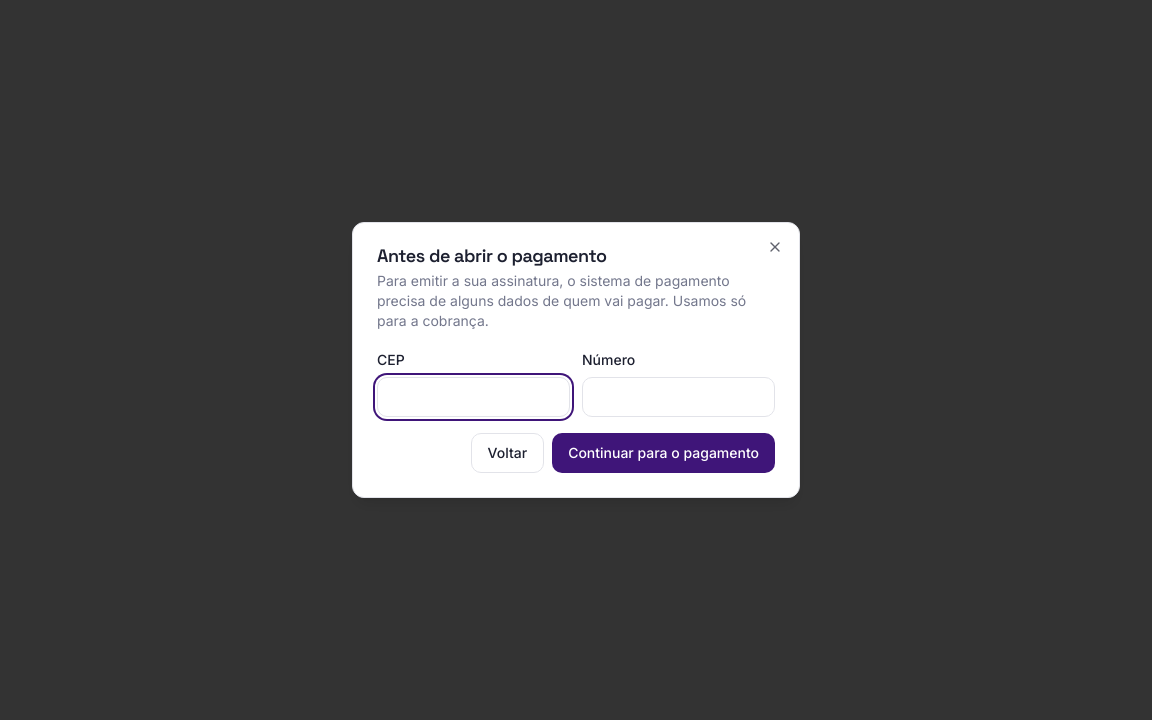
billing dialog › lookup erro:true reveals manual address, still blocks missing number
Later steps or results of the test are not shown.
Type "00000000" into the field labelled "CEP". click: {"x": 474, "y": 397}
box: [377,377,570,417]
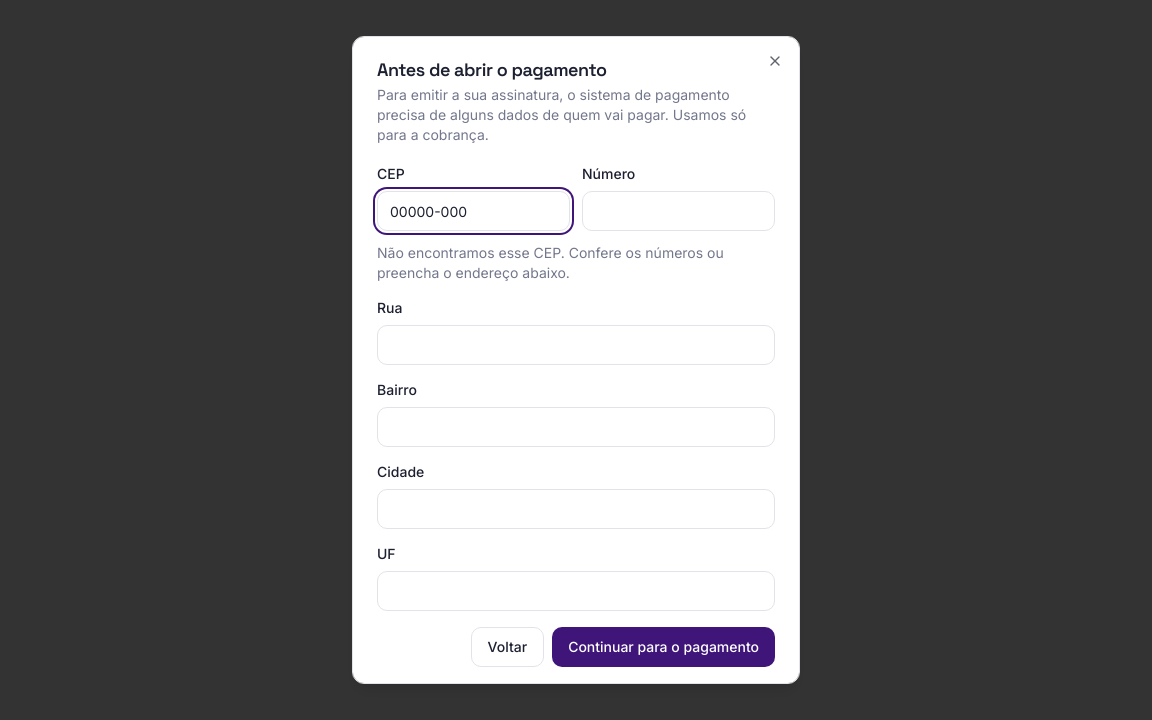
Check: the field labelled "Rua" is shown
Check: the text "Não encontramos esse CEP. Confere os números ou preencha o endereço abaixo." is shown, box [377,243,775,283]
Type " Rua A " into the field labelled "Rua". click: {"x": 576, "y": 345}
box: [377,325,775,365]
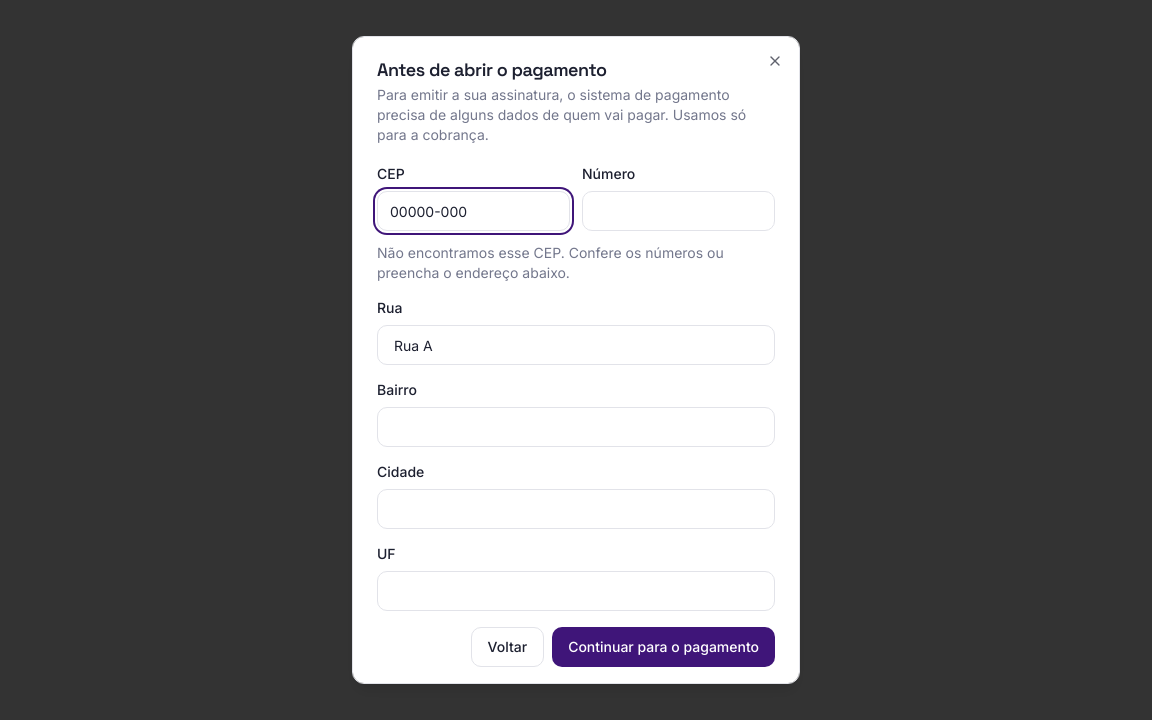
Type " Bairro A " into the field labelled "Bairro". click: {"x": 576, "y": 427}
box: [377,407,775,447]
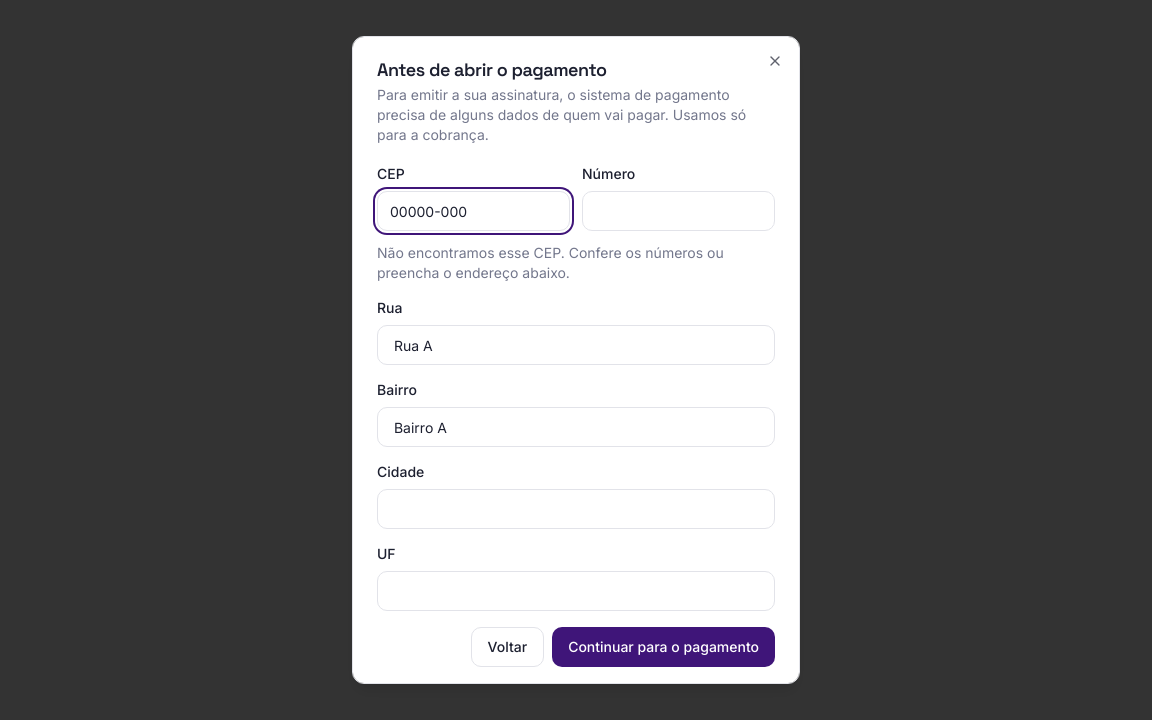
Type " São Paulo " into the field labelled "Cidade". click: {"x": 576, "y": 509}
box: [377,489,775,529]
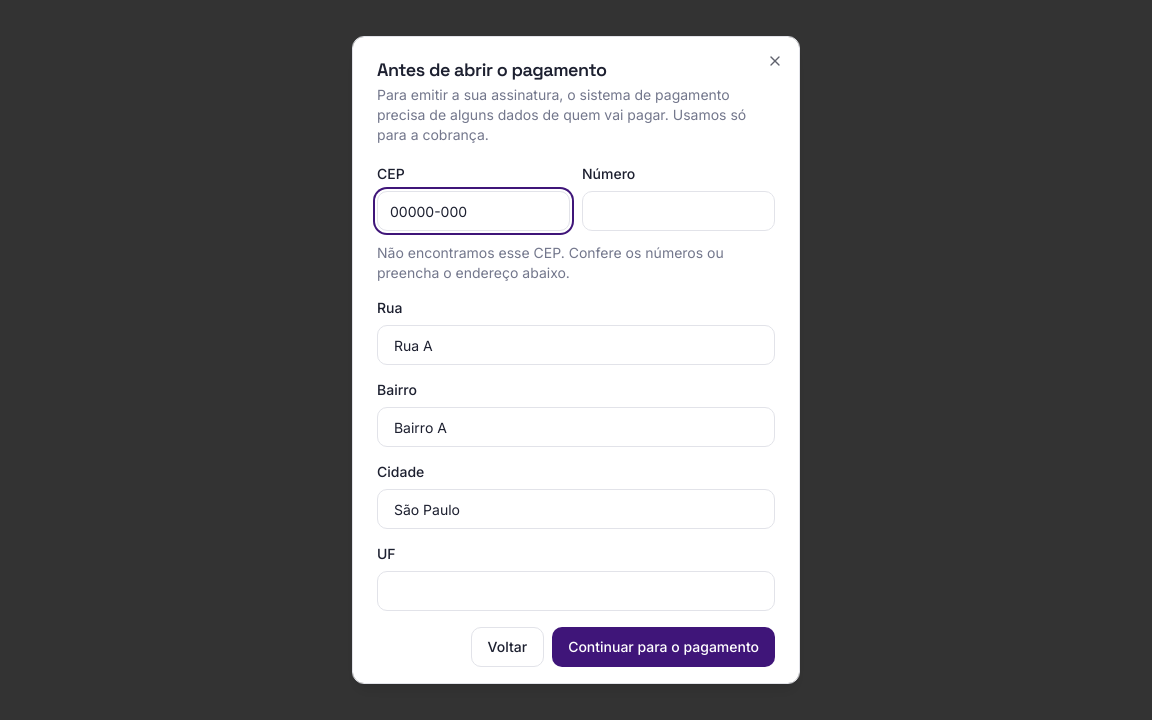
Type "sp" into the field labelled "UF". click: {"x": 576, "y": 591}
box: [377,571,775,611]
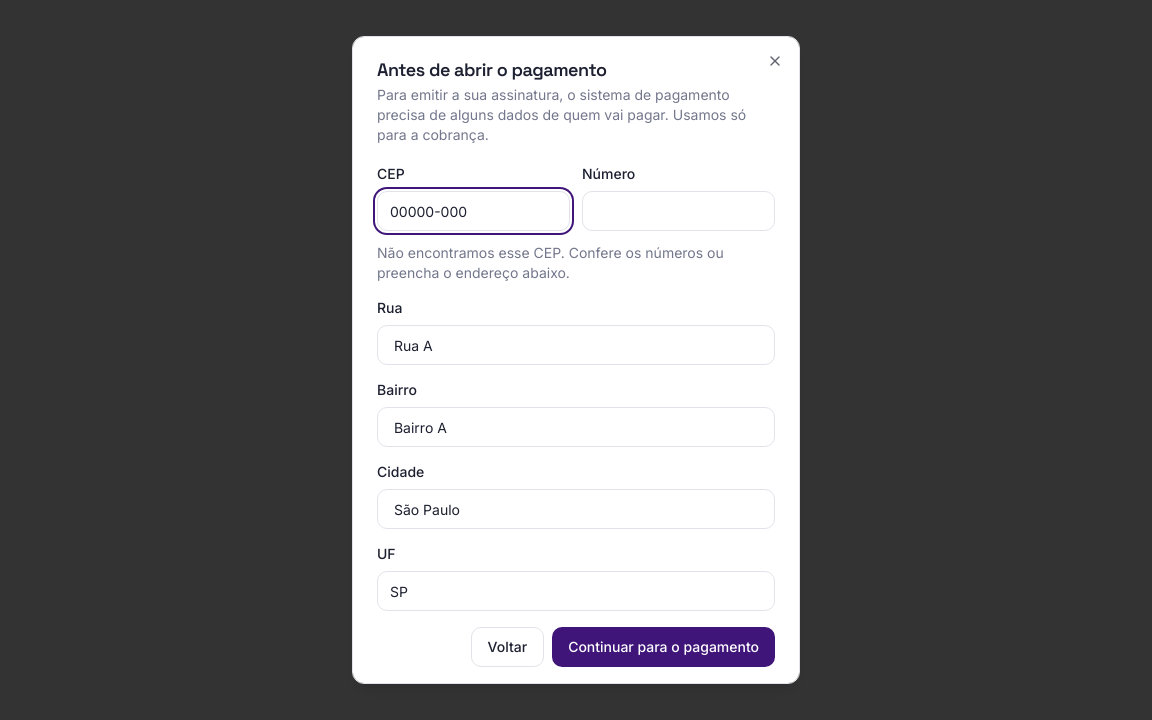
Click the button "Continuar para o pagamento". click: {"x": 664, "y": 647}
box: [552,627,775,667]
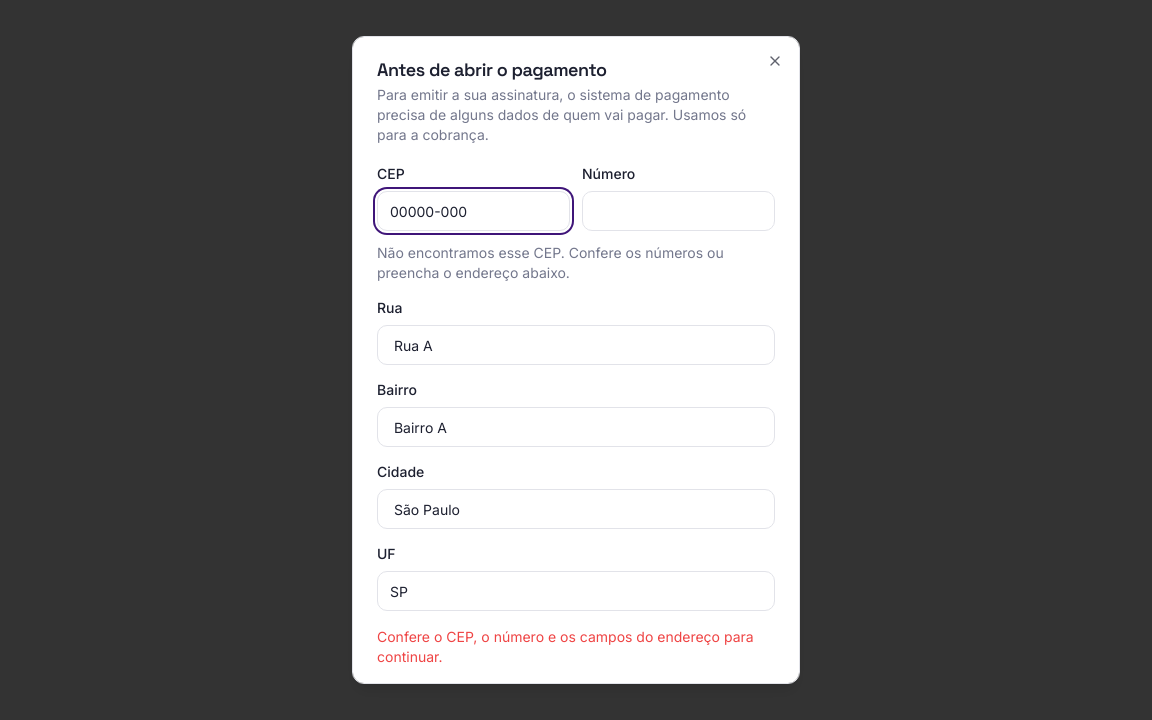
Check: the text "Confere o CEP, o número e os campos do endereço para continuar." is shown, box [377,627,775,667]
